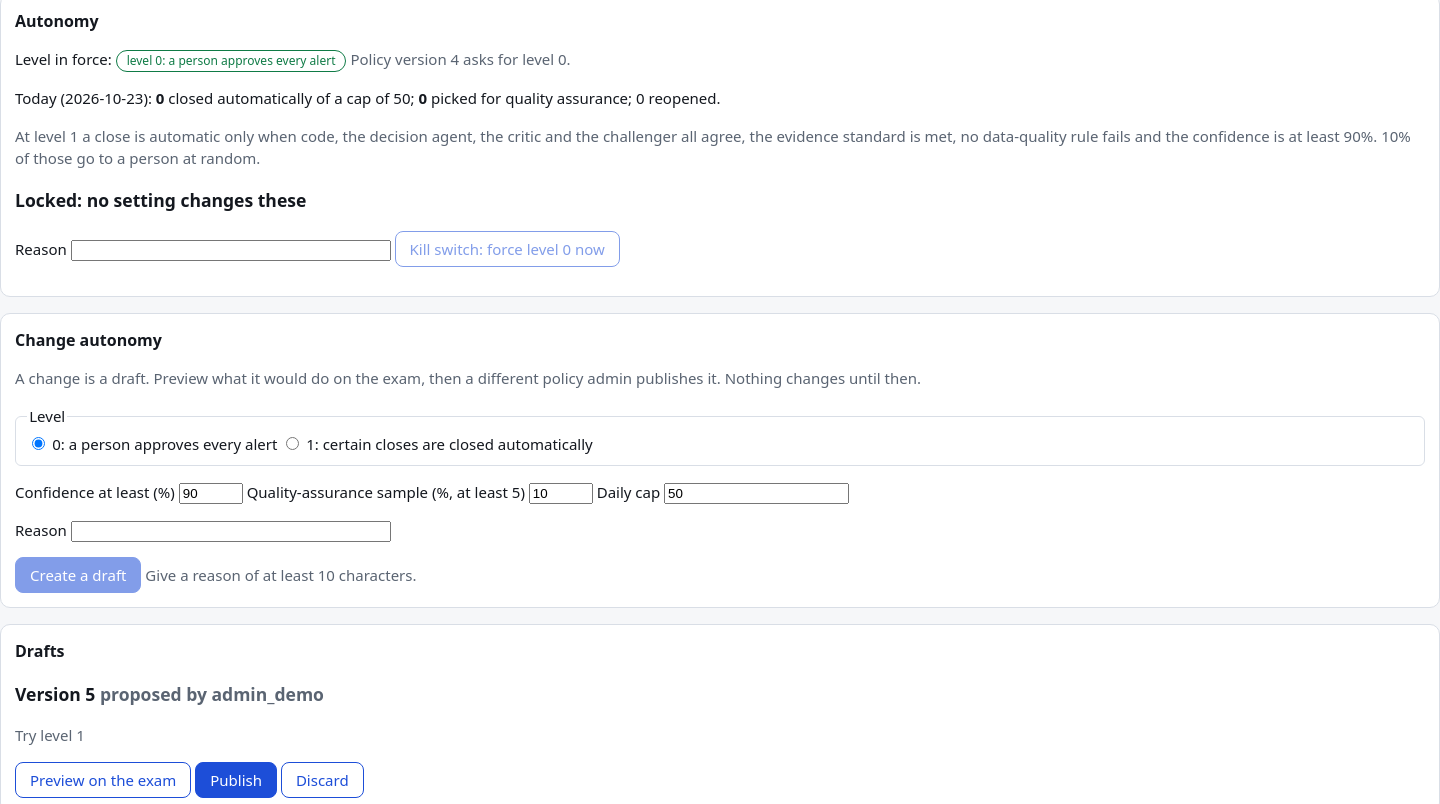
Test: Policy Studio buttons by role › says a refused discard in plain words, not the server's role message
Click the button "Discard" at [322, 780], box [281,762,364,798]
(page scrolled)
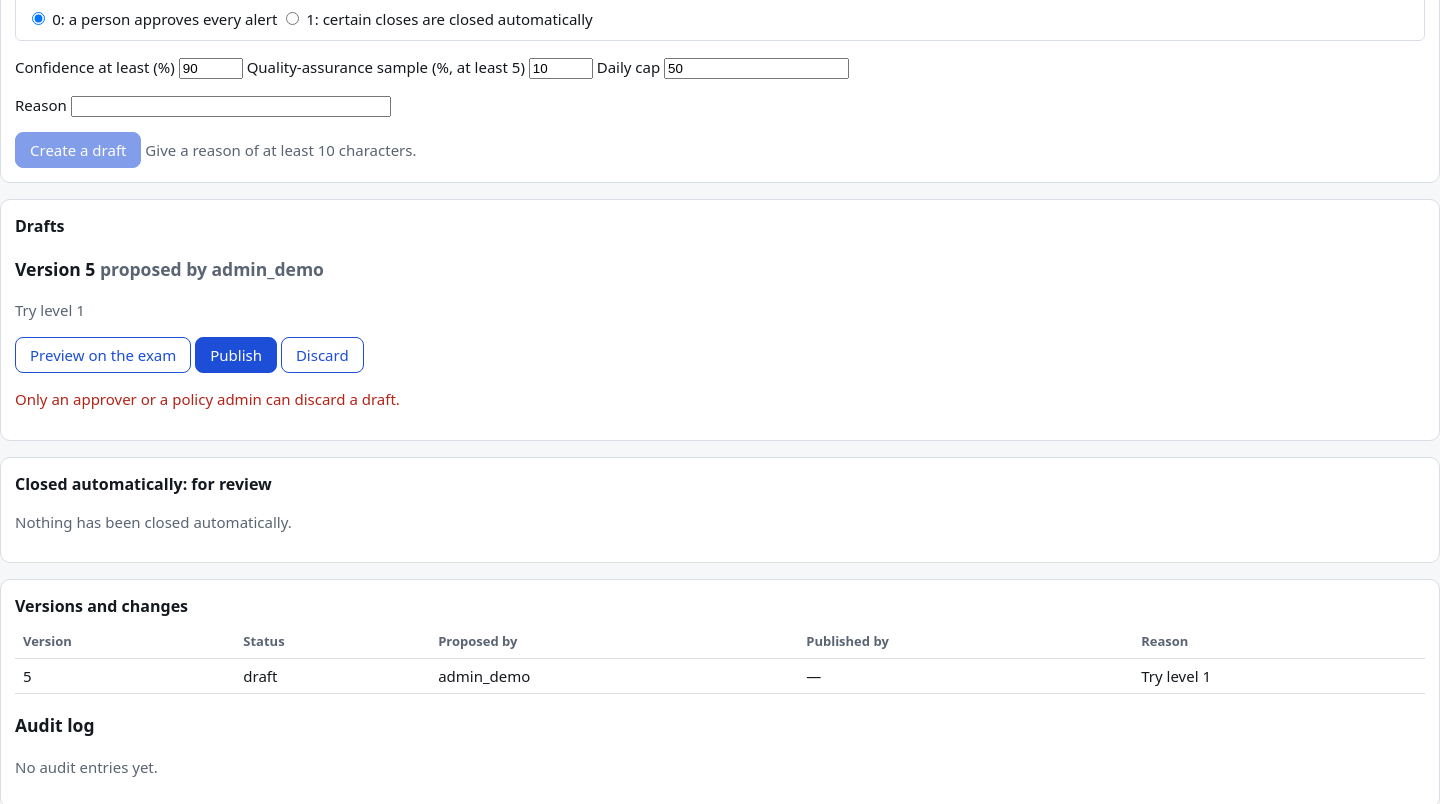
Now the message reads "Only an approver or a policy admin can discard a draft.", box [15,389,400,409]
